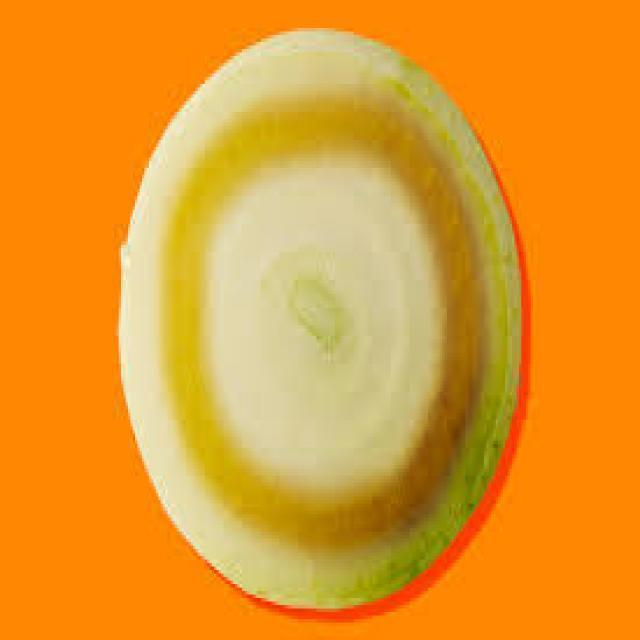Onion: (118, 28, 532, 624)
